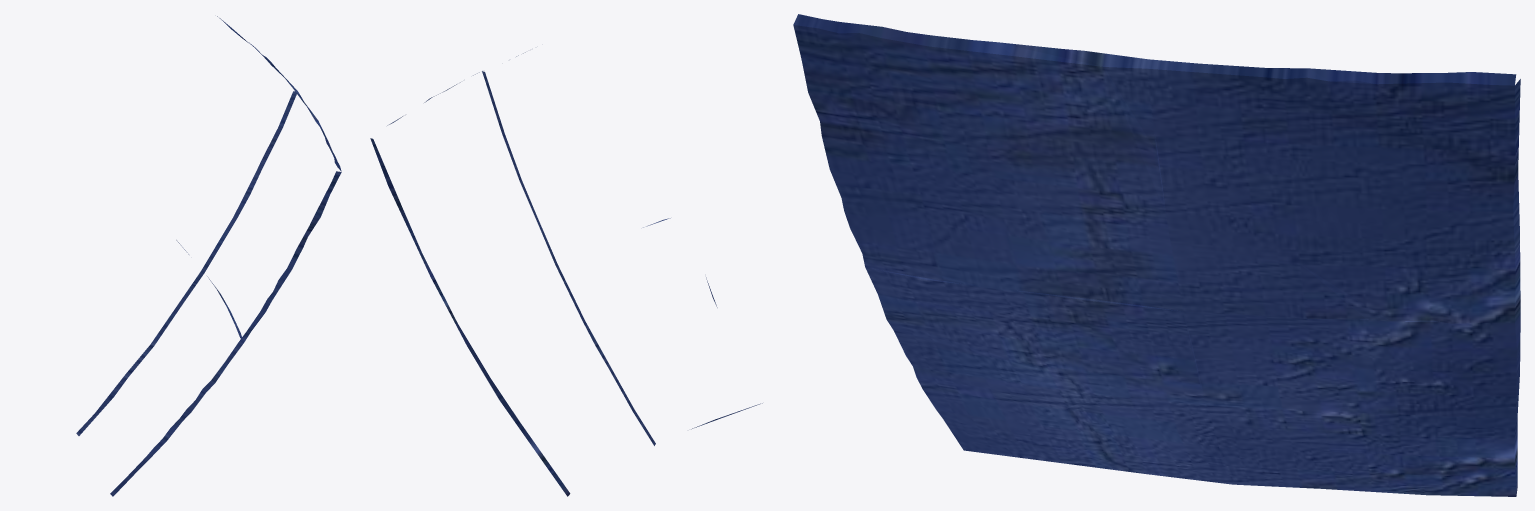
3 renders of one model, left to right at view 1: azimuth 30°, elevation 25°; view 2: azimuth 150°, elevation 25°; view 3: azimuth 270°, elevation 25°, orthographic. The views are drawn at different scales.
Bounding box in the file's own units: 1757751 × 2102780 × 2285778.
Materials: 1 (1 with a texture image).
